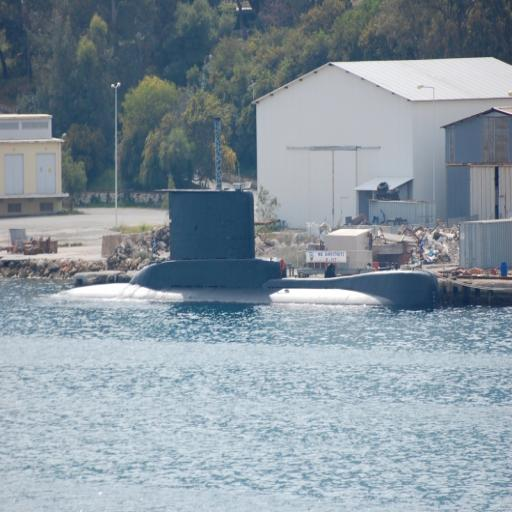submarine: (50, 186, 441, 308)
